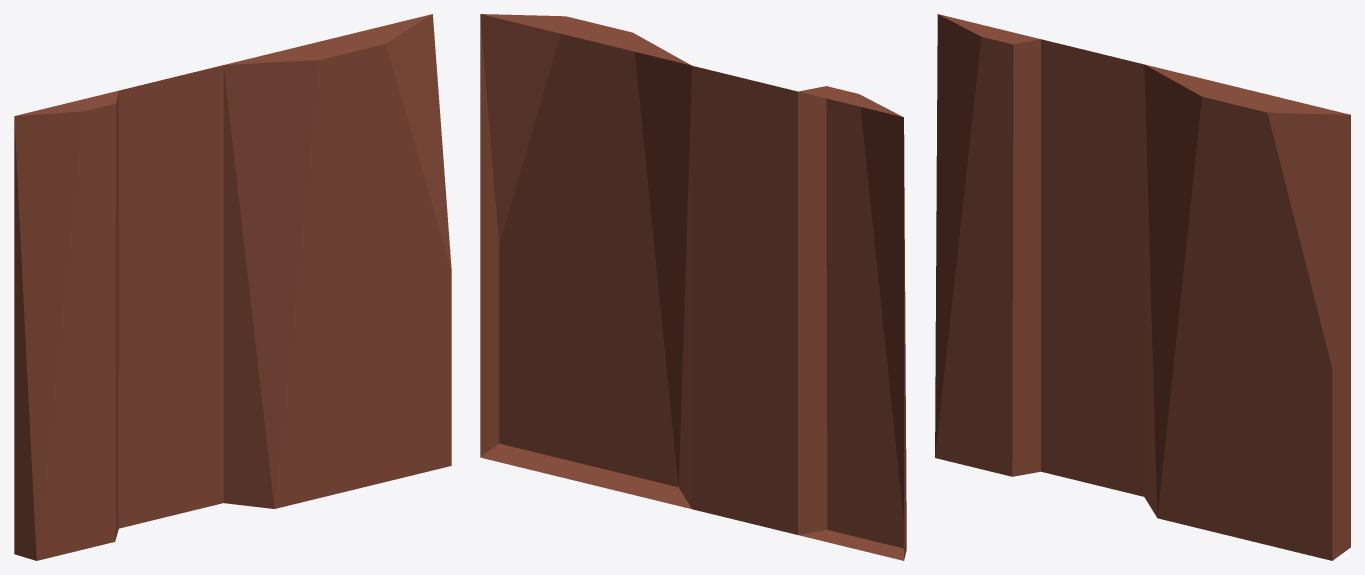
File: Wall_004.FBX
The picture shows the model from 3 angles, left to right: view 1: azimuth 30°, elevation 25°; view 2: azimuth 150°, elevation 25°; view 3: azimuth 330°, elevation 25°; orthographic projection. The views are drawn at different scales.
Parts seen in each view (by area): view 1: Wall_004; view 2: Wall_004; view 3: Wall_004.
Boxes of the visible parts, bbox=[...] form: Wall_004: bbox=[14, 14, 451, 560]; Wall_004: bbox=[480, 14, 906, 560]; Wall_004: bbox=[935, 14, 1350, 560].
Size of the model in its own units: 78.74 by 78.74 by 6.14.
